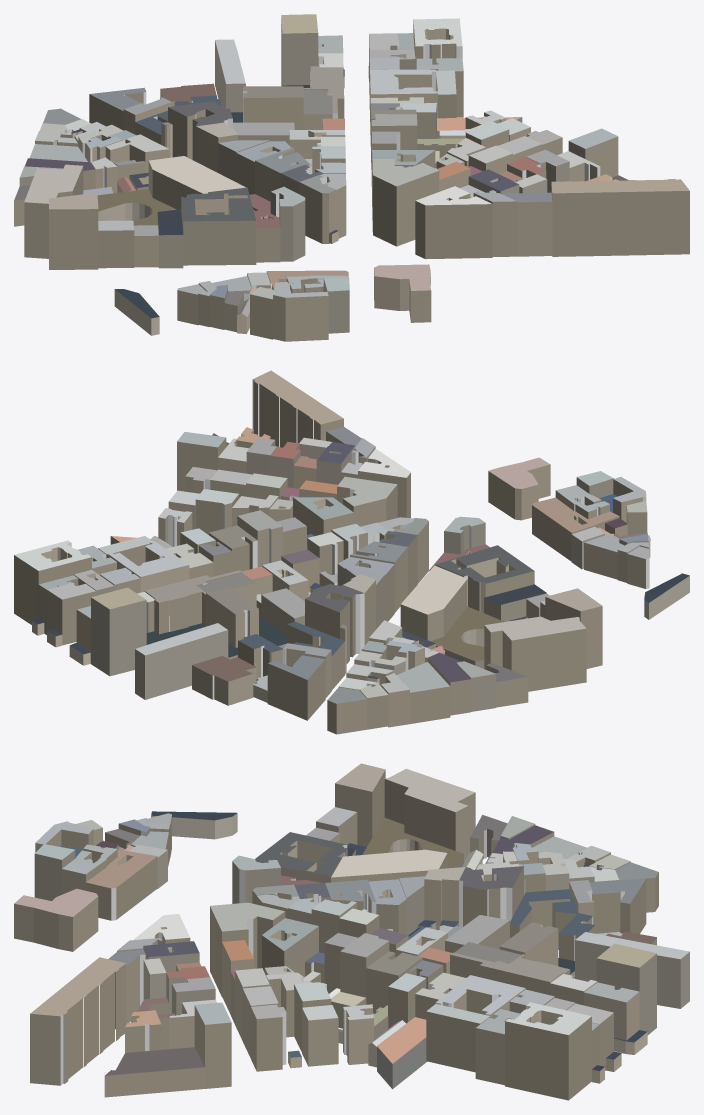
3 renders of one model, top to bottom at view 1: azimuth 30°, elevation 25°; view 2: azimuth 150°, elevation 25°; view 3: azimuth 270°, elevation 25°, orthographic. The views are drawn at different scales.
Parts seen in each view (by area): view 1: tuile; view 2: tuile; view 3: tuile.
Boxes of the visible parts, x1,y1,x2,y2 form: tuile: (14, 14, 689, 341); tuile: (14, 370, 689, 734); tuile: (14, 763, 689, 1100).
Size of the model in its own units: 271 by 38.41 by 280.
